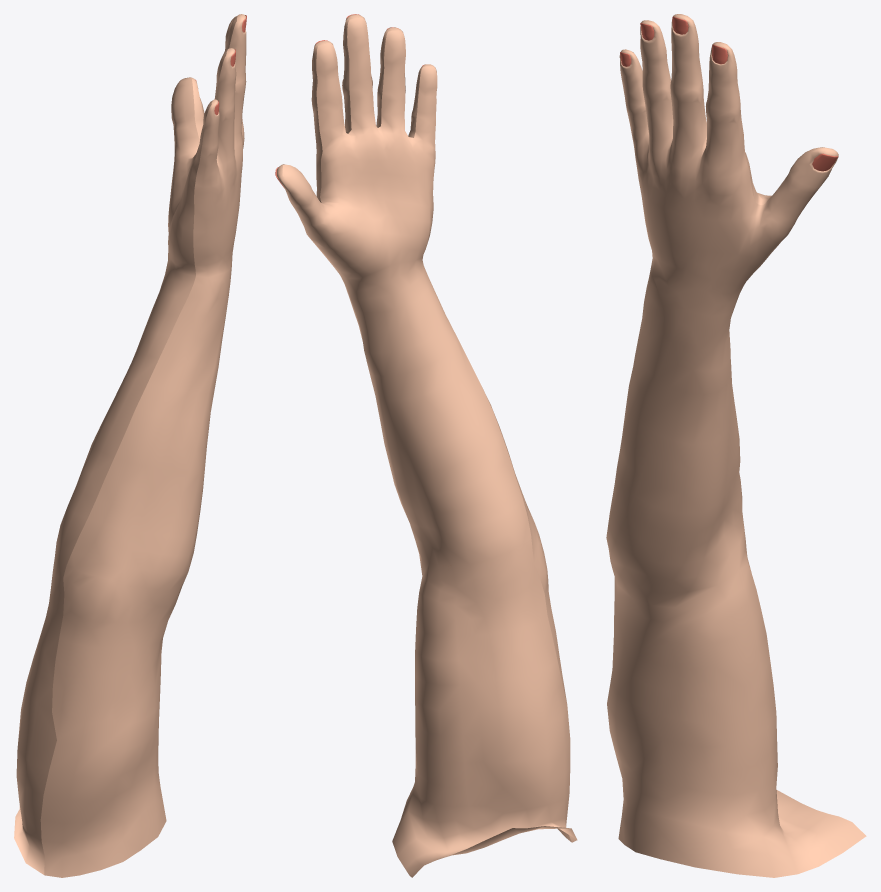
Rendered from Hand-model2.glb.
The picture shows the model from 3 angles, left to right: view 1: azimuth 30°, elevation 25°; view 2: azimuth 150°, elevation 25°; view 3: azimuth 270°, elevation 25°; orthographic projection. The views are drawn at different scales.
Parts seen in each view (by area): view 1: Arm.3; view 2: Arm.3; view 3: Arm.3.
Part boxes in pixels (<box>): Arm.3: <box>14,14,246,877</box>; Arm.3: <box>275,14,577,877</box>; Arm.3: <box>606,14,866,877</box>.
Size of the model in its own units: 0.289 by 0.8986 by 0.2309.
1 material, 1 textured.
